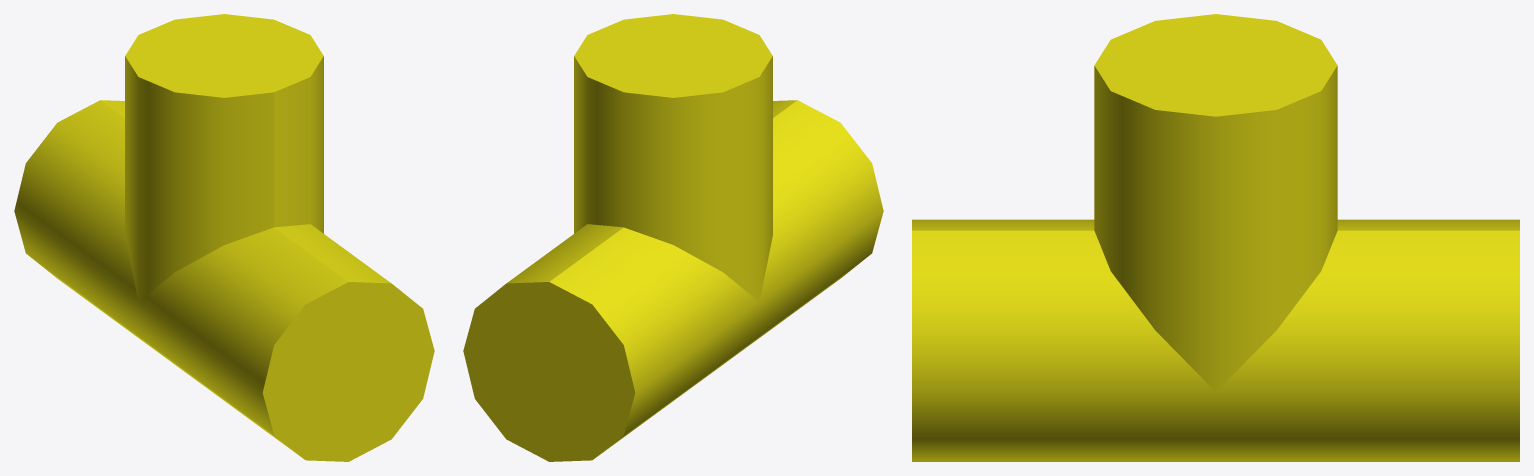
The model's file is Pipe1T.fbx.
The picture shows the model from 3 angles, left to right: view 1: azimuth 30°, elevation 25°; view 2: azimuth 150°, elevation 25°; view 3: azimuth 270°, elevation 25°; orthographic projection. The views are drawn at different scales.
Parts seen in each view (by area): view 1: Pipe1T; view 2: Pipe1T; view 3: Pipe1T.
Part boxes in pixels (x1,y1,x2,y2): Pipe1T: (14,14,434,461); Pipe1T: (463,14,883,461); Pipe1T: (912,14,1519,461).
Bounding box in the file's own units: 40 × 70 × 100.
